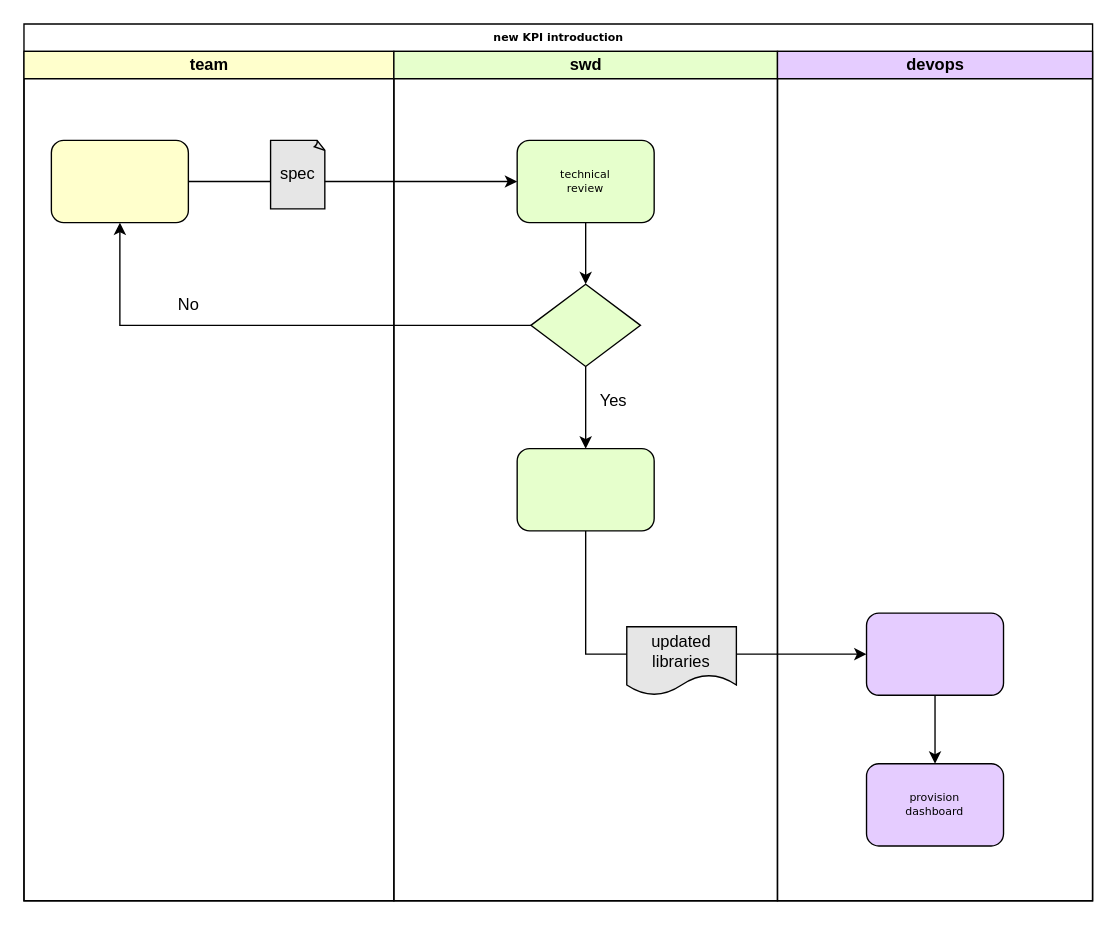
This 1117x925 diagram has some shape labels left out. Each missing label, with the centre of its shape:
implementation: point 585,489
propose KPI: point 119,181
update global polling: point 934,653
well- defined?: point 585,324
